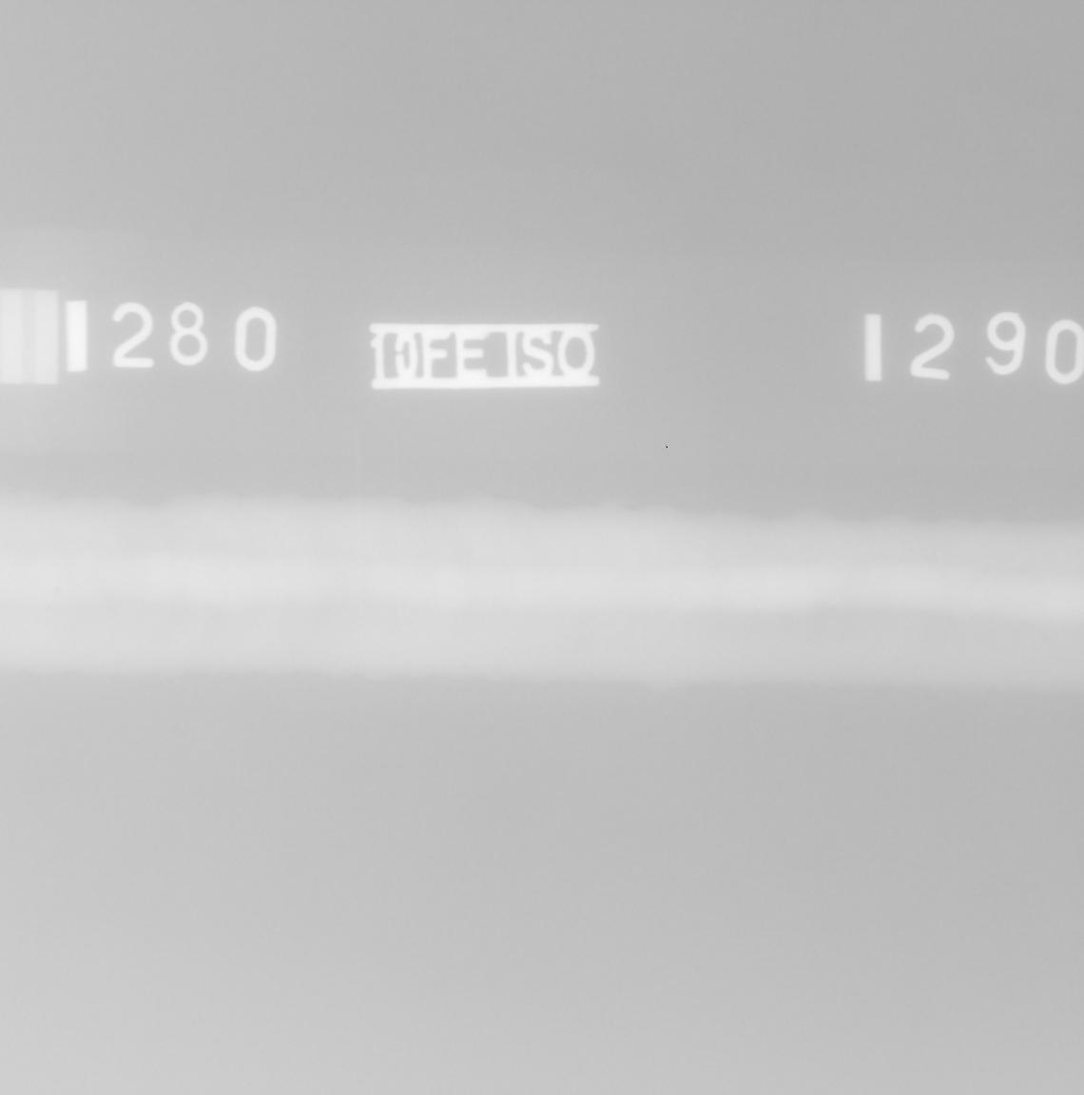Pore/Porosity: (47, 606, 57, 611), (54, 587, 59, 593), (1043, 637, 1048, 641)
